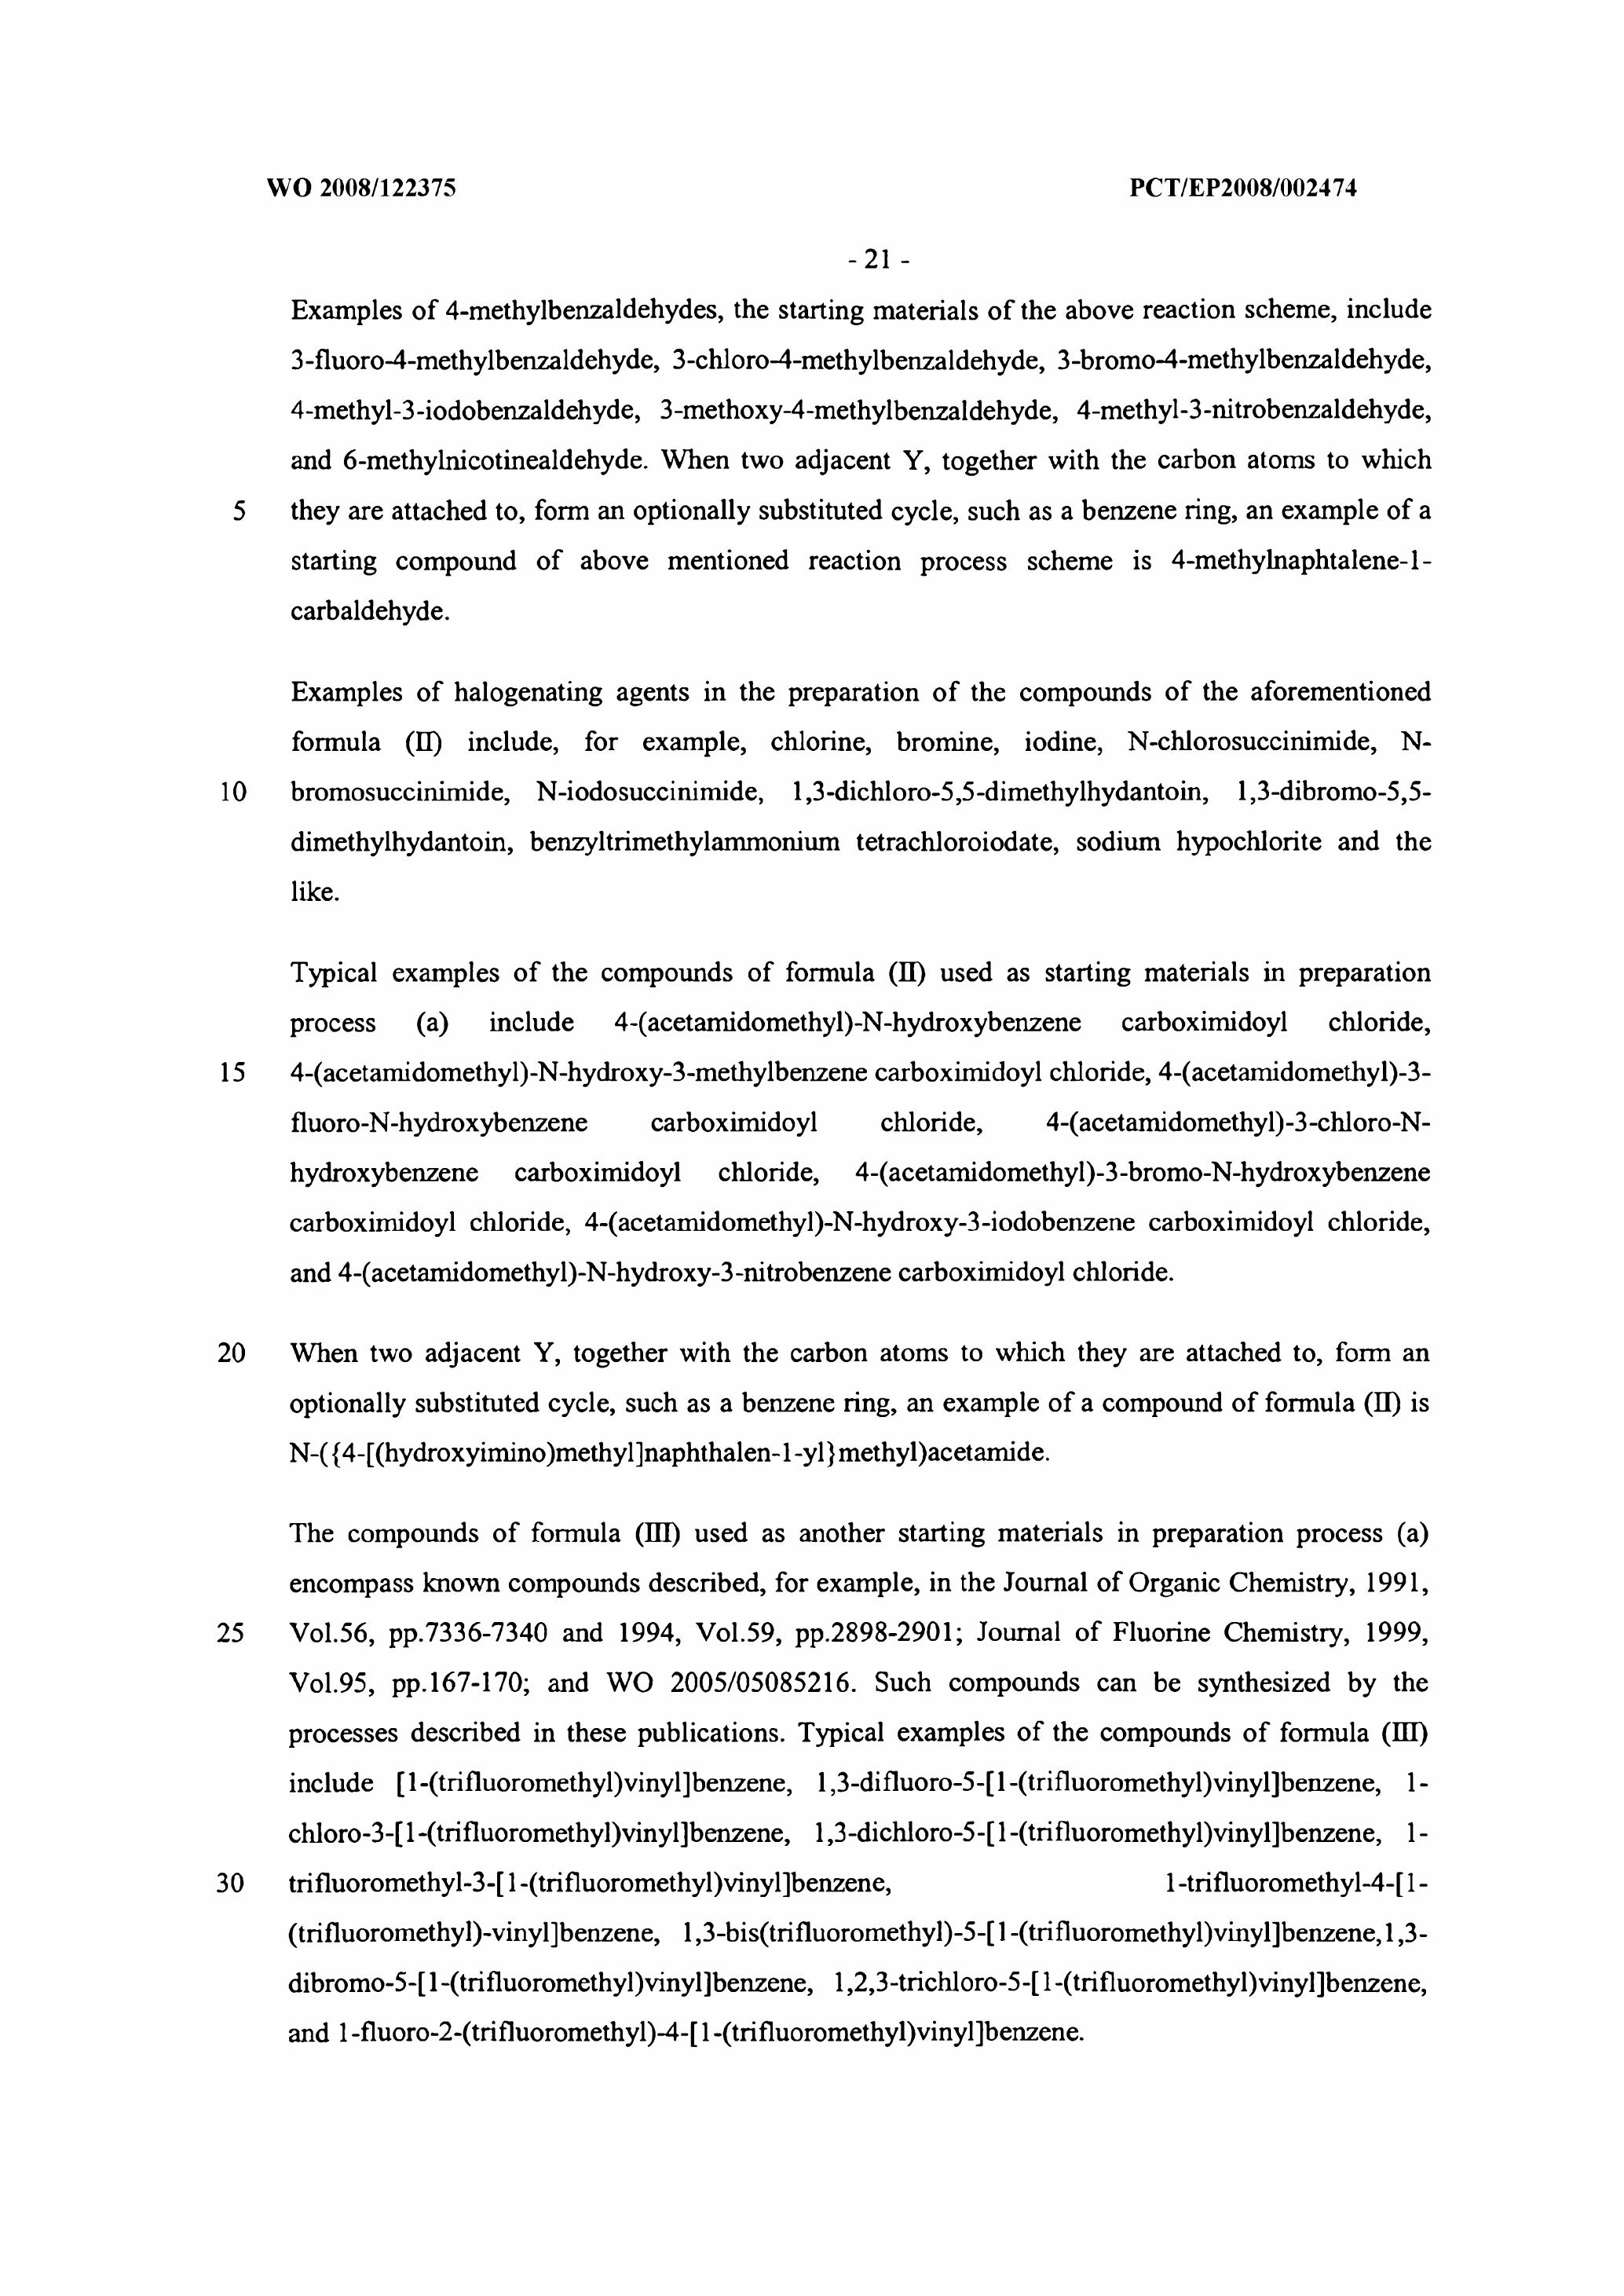substitutes: (250, 654, 1448, 916)
